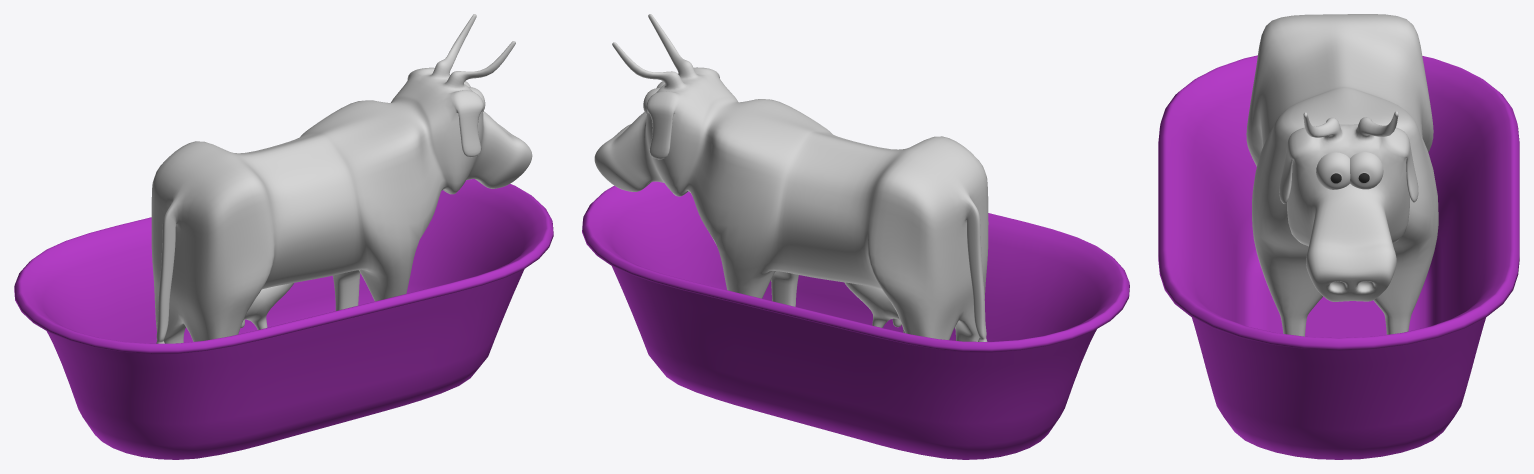
Rendered from cowski.fbx.
The picture shows the model from 3 angles, left to right: view 1: azimuth 30°, elevation 25°; view 2: azimuth 150°, elevation 25°; view 3: azimuth 270°, elevation 25°; orthographic projection. The views are drawn at different scales.
Visible parts, largest first — view 1: zjx03, q_koerper_Cube.001, q_euter_Sphere; view 2: zjx03, q_koerper_Cube.001, q_euter_Sphere; view 3: zjx03, q_koerper_Cube.001, q_auge_Sphere.001.
Part boxes in pixels (x1,y1,x2,y2): zjx03: (14,179,553,459); q_koerper_Cube.001: (151,14,532,343); q_euter_Sphere: (240,283,293,329); zjx03: (582,181,1129,459); q_koerper_Cube.001: (594,14,988,341); q_euter_Sphere: (844,282,904,332); zjx03: (1158,55,1519,459); q_koerper_Cube.001: (1246,14,1438,336); q_auge_Sphere.001: (1316,152,1383,189).
Bounding box in the file's own units: 790 × 482 × 405.
